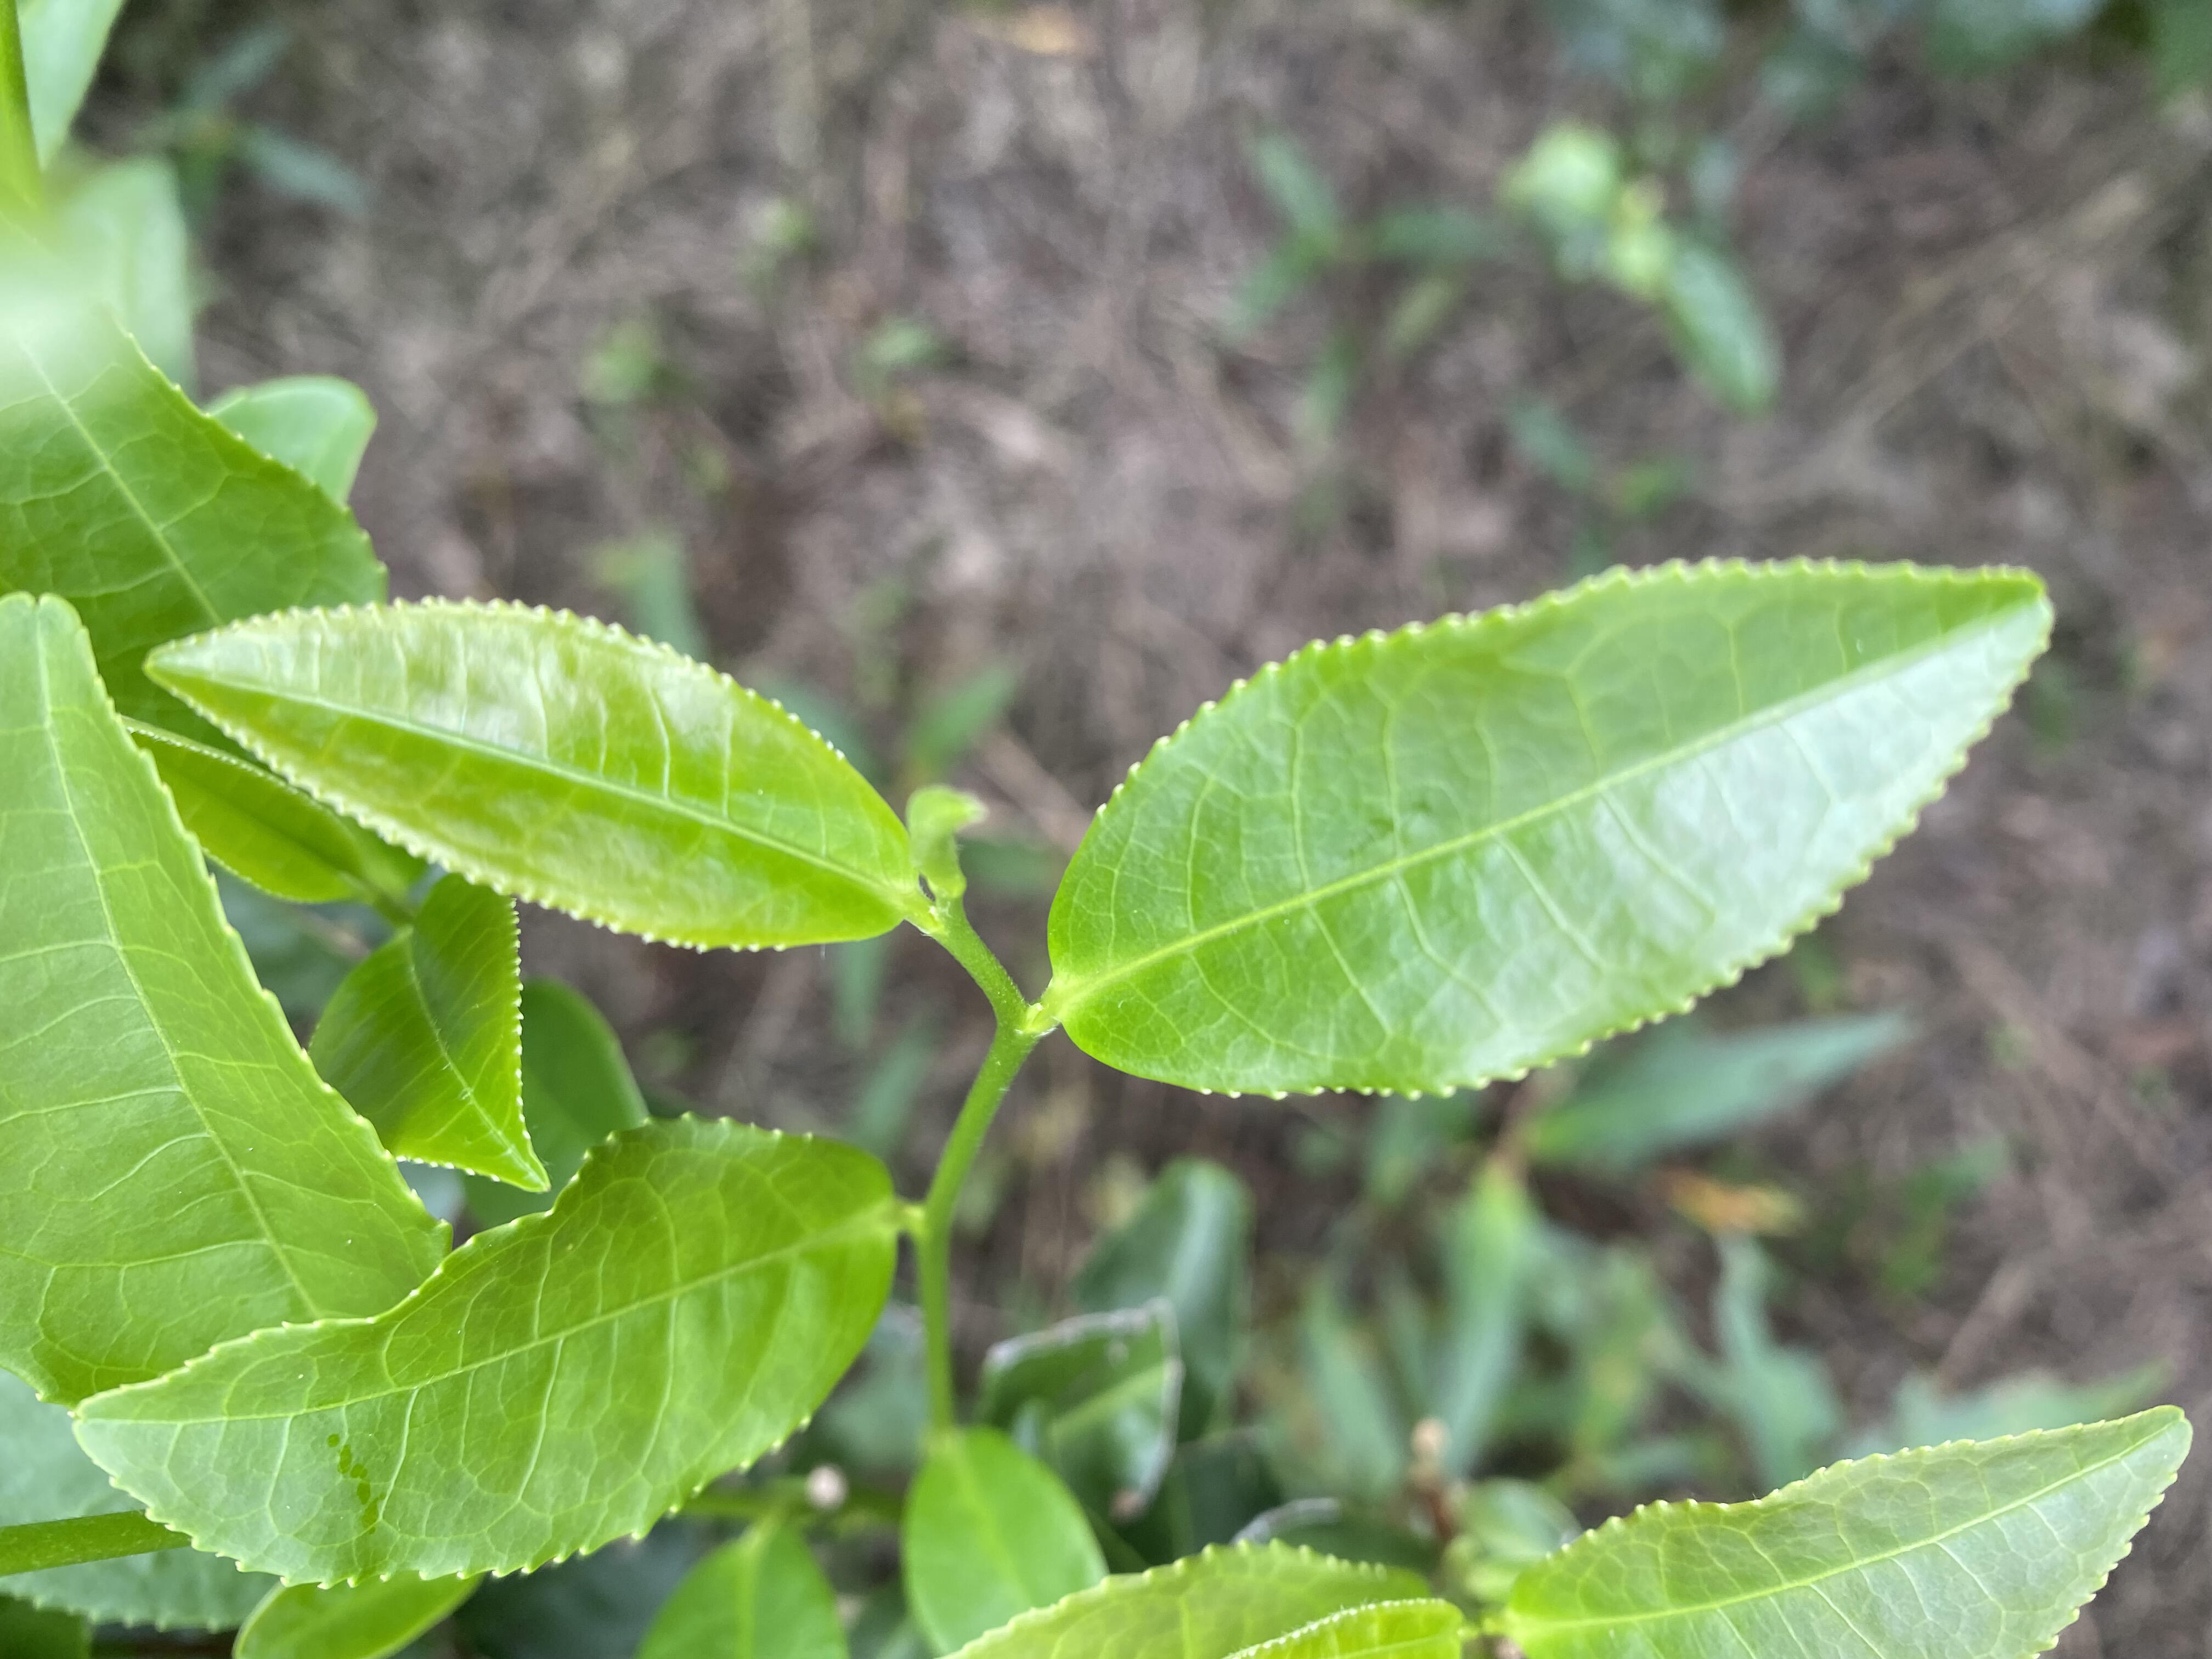healthy: (1049, 554, 2057, 1110), (73, 1114, 899, 1586), (143, 599, 914, 957), (1507, 1399, 2196, 1656)
